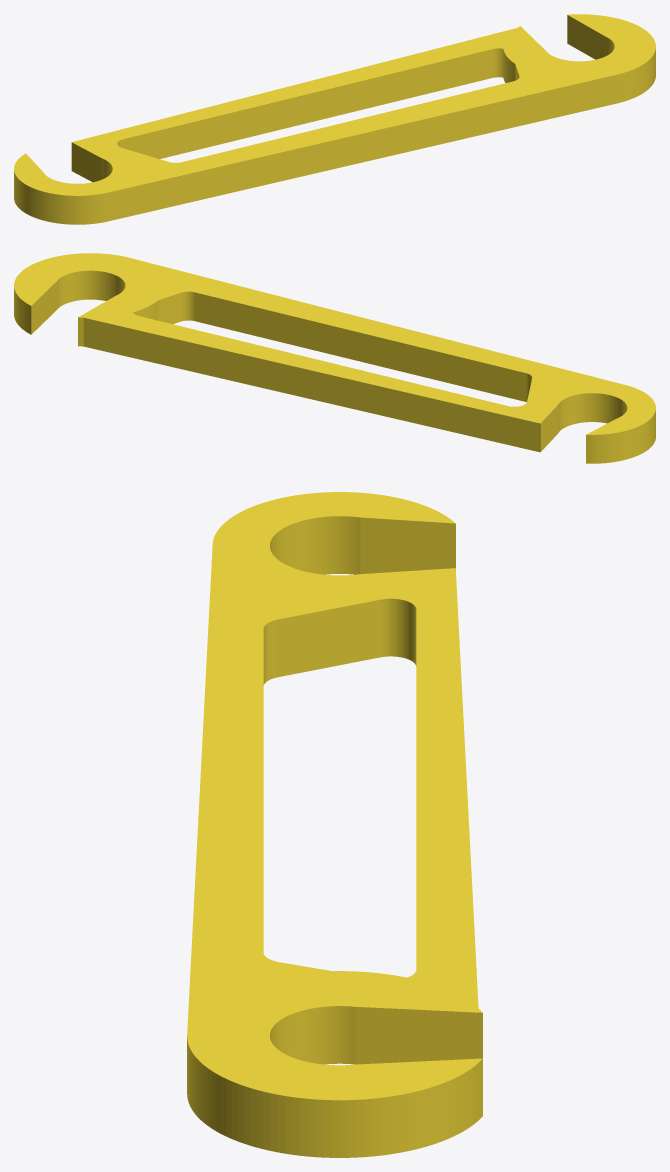
The model's file is openscad_child-safety-latch.glb.
3 renders of one model, top to bottom at view 1: azimuth 30°, elevation 25°; view 2: azimuth 150°, elevation 25°; view 3: azimuth 270°, elevation 25°, orthographic. The views are drawn at different scales.
Parts seen in each view (by area): view 1: object; view 2: object; view 3: object.
Boxes of the visible parts, left/top/right/bottom form: object: left=14, top=14, right=655, bottom=224; object: left=14, top=253, right=655, bottom=463; object: left=187, top=492, right=482, bottom=1157.
Bounding box in the file's own units: 113 × 5 × 23.22.
